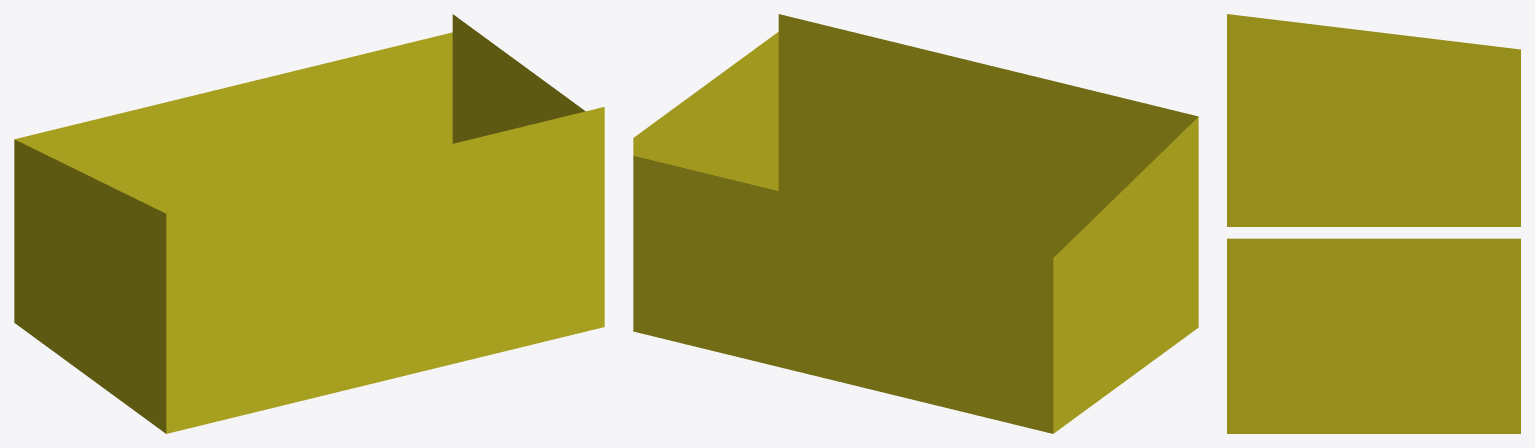
3 renders of one model, left to right at view 1: azimuth 30°, elevation 25°; view 2: azimuth 150°, elevation 25°; view 3: azimuth 270°, elevation 25°, orthographic. The views are drawn at different scales.
Parts seen in each view (by area): view 1: 0_mesh_; view 2: 0_mesh_; view 3: 0_mesh_.
Part boxes in pixels (x1,y1,x2,y2): 0_mesh_: (14, 14, 604, 433); 0_mesh_: (633, 14, 1198, 433); 0_mesh_: (1227, 14, 1520, 433).
Size of the model in its own units: 5 by 2.4 by 3.
